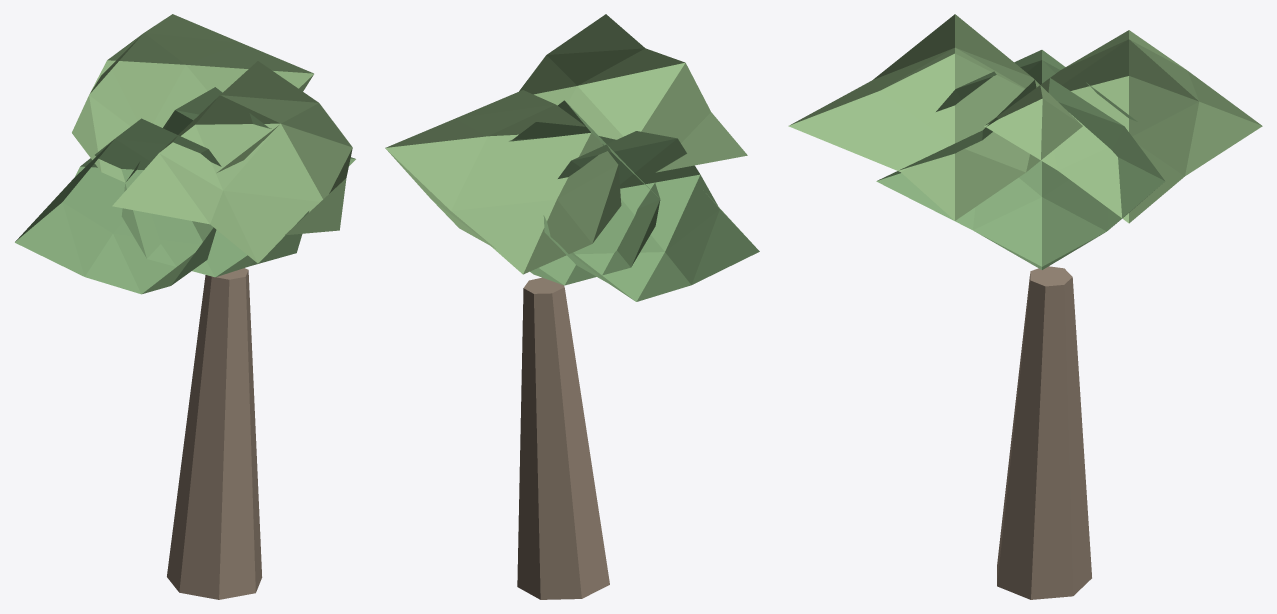
File: broadleaf_v06.glb
The picture shows the model from 3 angles, left to right: view 1: azimuth 30°, elevation 25°; view 2: azimuth 150°, elevation 25°; view 3: azimuth 270°, elevation 25°; orthographic projection. The views are drawn at different scales.
Visible parts, largest first — view 1: lod0; view 2: lod0; view 3: lod0.
Boxes of the visible parts, left/top/right/bottom form: lod0: left=15, top=14, right=355, bottom=599; lod0: left=385, top=14, right=759, bottom=599; lod0: left=788, top=14, right=1262, bottom=599.
Size of what is drawn, in the model's own units: 2.9 by 4.49 by 3.41.
